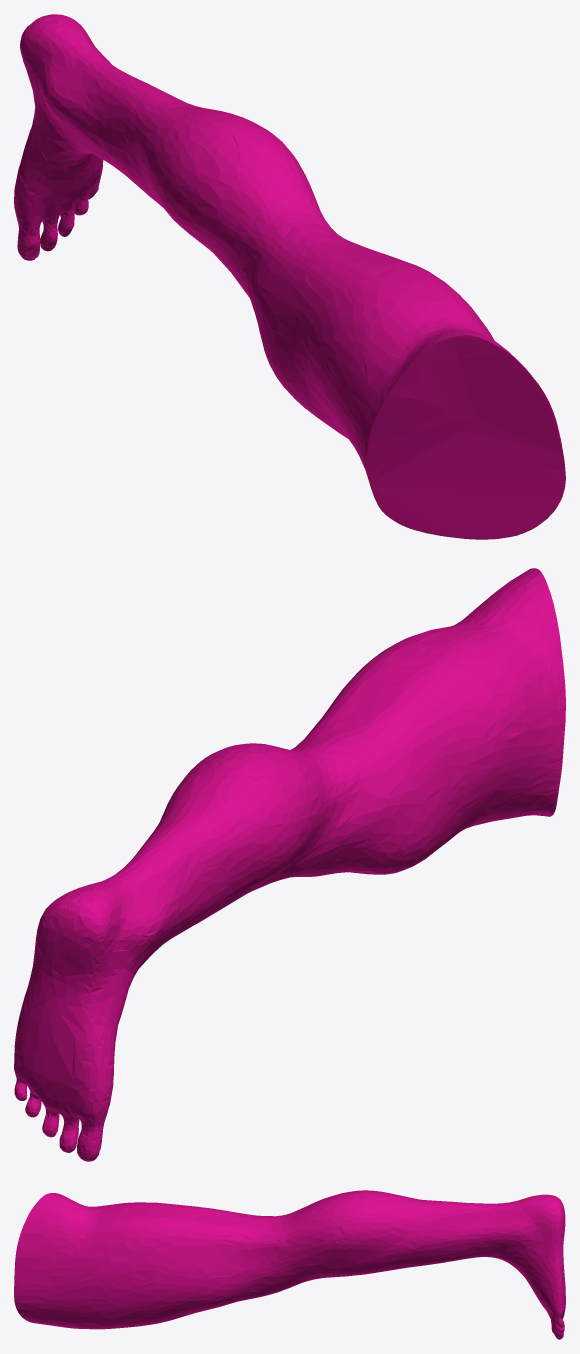
File: leg2.obj
The picture shows the model from 3 angles, top to bottom: view 1: azimuth 30°, elevation 25°; view 2: azimuth 150°, elevation 25°; view 3: azimuth 270°, elevation 25°; orthographic projection. The views are drawn at different scales.
Parts seen in each view (by area): view 1: obj_0; view 2: obj_0; view 3: obj_0.
Part boxes in pixels (box(x1,y1,x2,y2)): obj_0: box(14, 14, 565, 539); obj_0: box(14, 568, 565, 1161); obj_0: box(14, 1190, 565, 1339).
Size of the model in its own units: 13.33 by 20.77 by 69.27.
